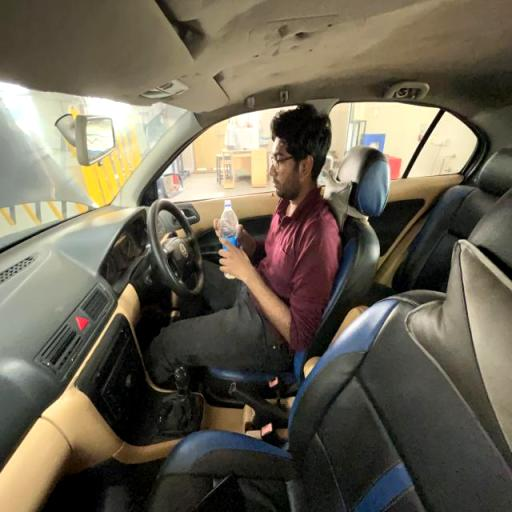Drinking: (170, 105, 340, 366)
